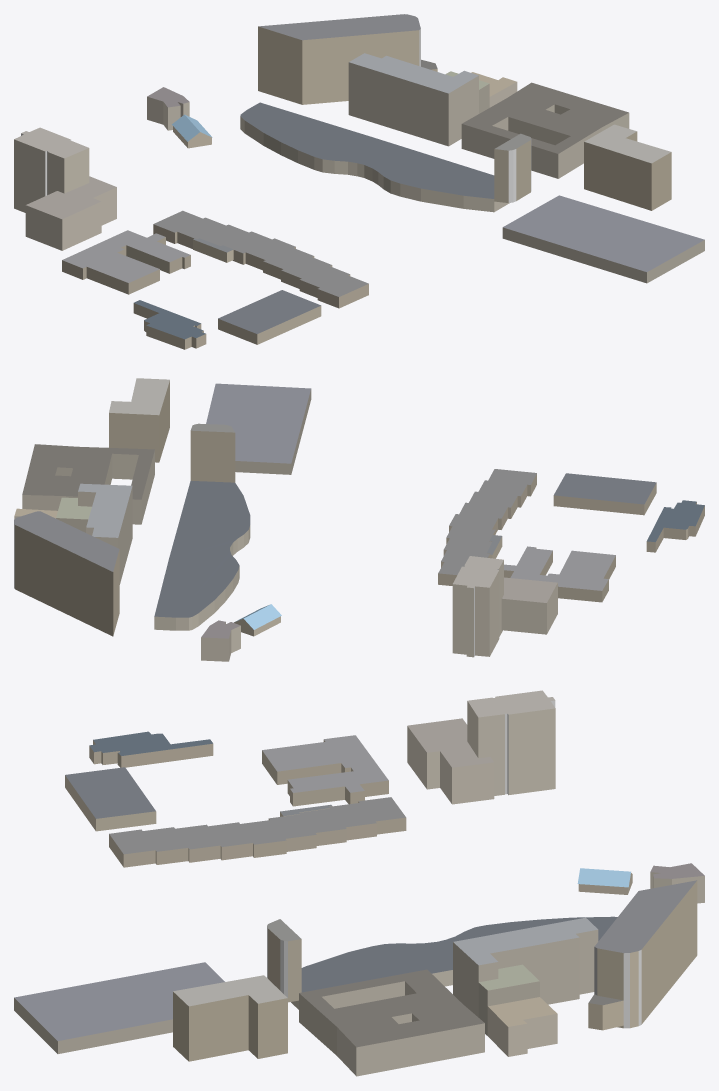
3 renders of one model, top to bottom at view 1: azimuth 30°, elevation 25°; view 2: azimuth 150°, elevation 25°; view 3: azimuth 270°, elevation 25°, orthographic. The views are drawn at different scales.
Visible parts, largest first — view 1: tuile; view 2: tuile; view 3: tuile.
Part boxes in pixels (<box>): tuile: <box>14,14,704,349</box>; tuile: <box>14,378,704,661</box>; tuile: <box>14,690,704,1076</box>.
Size of the model in its own units: 282 by 37.77 by 254.
